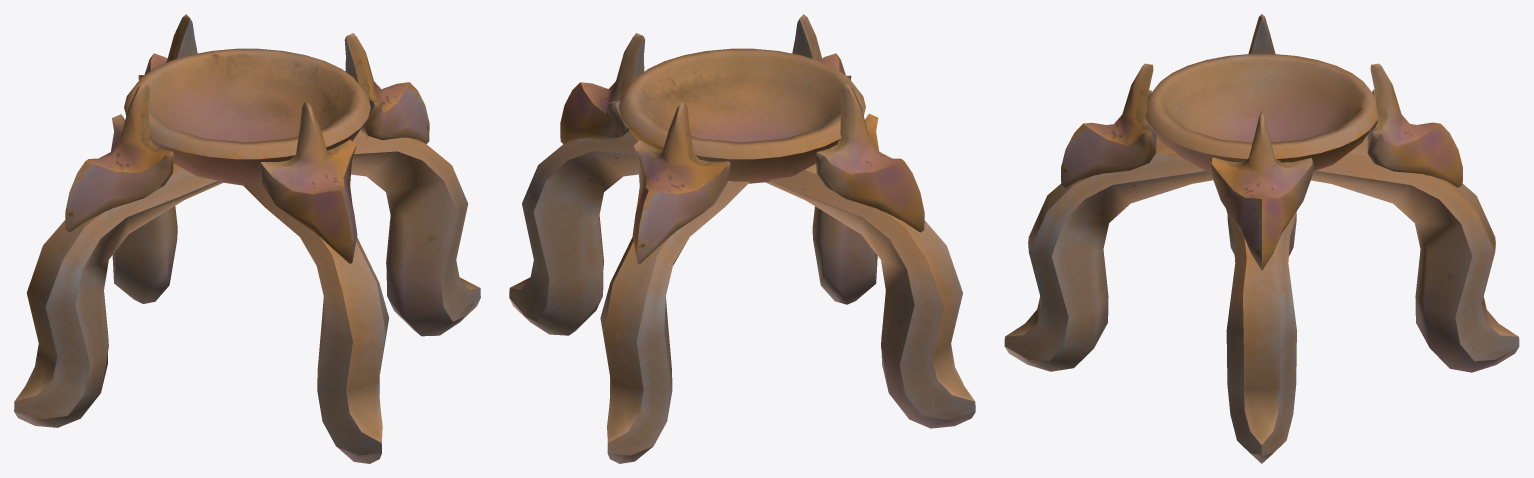
The model's file is SM_Potion_Props_Stand_05.fbx.
3 views of the same model, side by side, from view 1: azimuth 30°, elevation 25°; view 2: azimuth 150°, elevation 25°; view 3: azimuth 270°, elevation 25° (orthographic). The views are drawn at different scales.
Parts seen in each view (by area): view 1: SM_Potion_Props_Stand_05_LOD0; view 2: SM_Potion_Props_Stand_05_LOD0; view 3: SM_Potion_Props_Stand_05_LOD0.
Part boxes in pixels (<box>): SM_Potion_Props_Stand_05_LOD0: <box>14,14,480,463</box>; SM_Potion_Props_Stand_05_LOD0: <box>509,14,975,463</box>; SM_Potion_Props_Stand_05_LOD0: <box>1004,14,1519,463</box>.
Size of what is drawn, in the model's own units: 31.01 by 20.44 by 31.01.
